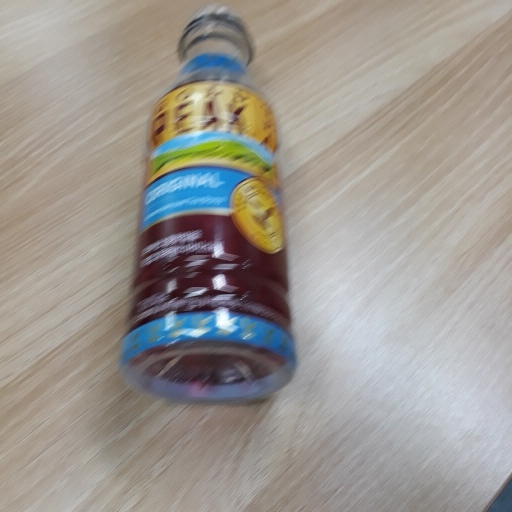Plastic_0: (127, 9, 299, 408)
